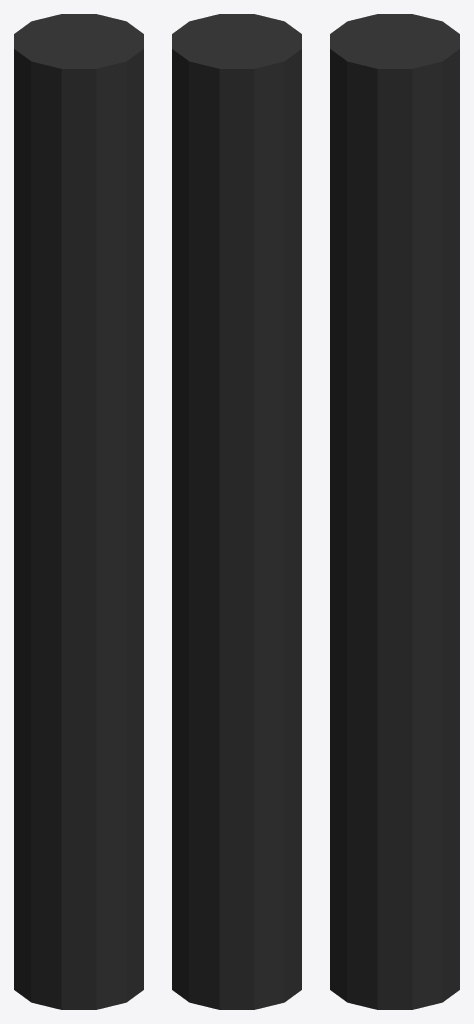
File: nyc_subway_signal_light_1_pole.obj
3 renders of one model, left to right at view 1: azimuth 30°, elevation 25°; view 2: azimuth 150°, elevation 25°; view 3: azimuth 330°, elevation 25°, orthographic.
Visible parts, largest first — view 1: cylinder; view 2: cylinder; view 3: cylinder.
Part boxes in pixels (x1,y1,x2,y2): cylinder: [14, 14, 143, 1009]; cylinder: [172, 14, 301, 1009]; cylinder: [330, 14, 459, 1009].
Size of the model in its own units: 0.125 by 1 by 0.125.
1 material, 1 textured.
